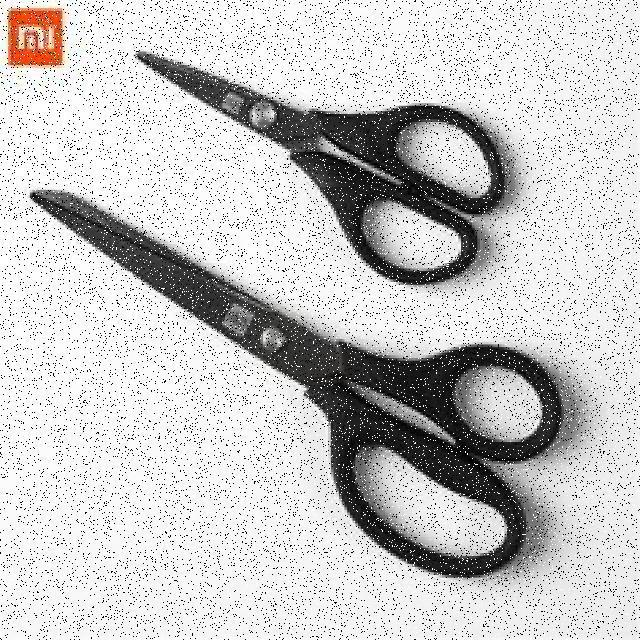scissors: (16, 169, 594, 604), (111, 20, 518, 296)
